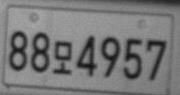4: (76, 35, 98, 76)
5: (122, 38, 143, 79)
7: (146, 39, 167, 80)
8: (8, 30, 28, 71), (30, 31, 50, 72)
9: (100, 36, 120, 77)
모: (52, 41, 72, 75)
